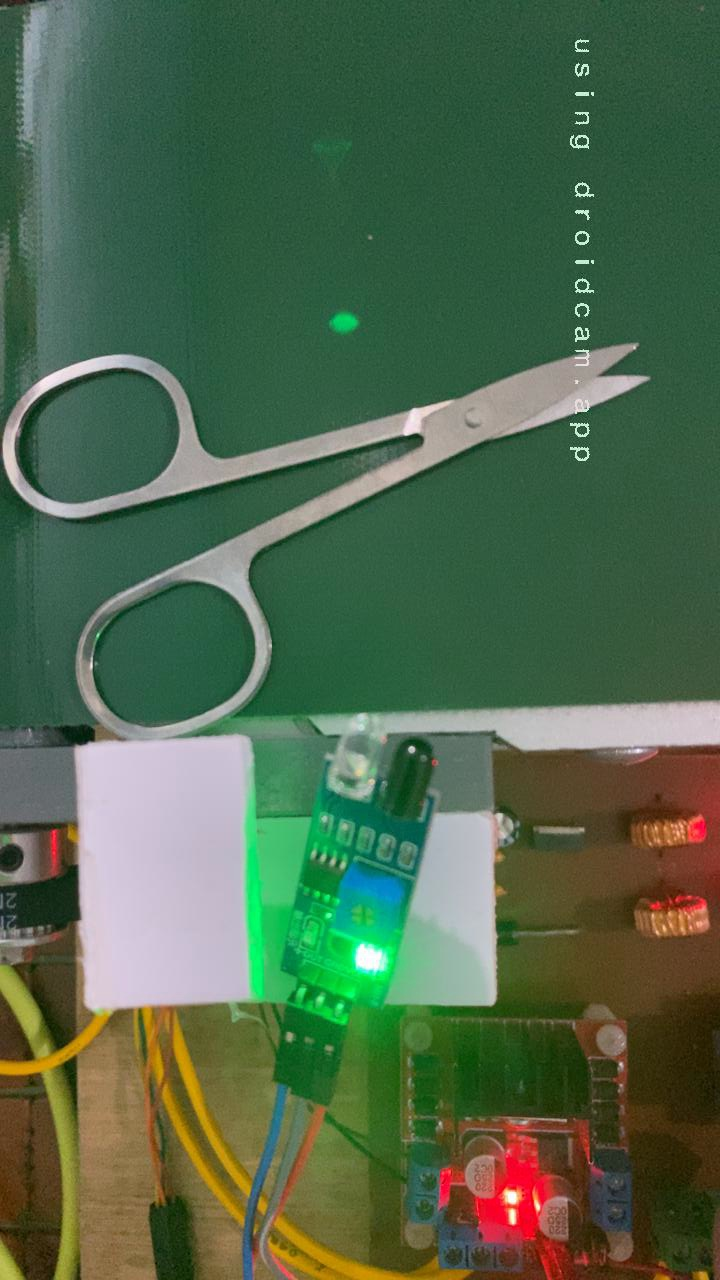scissor: (0, 336, 657, 715)
